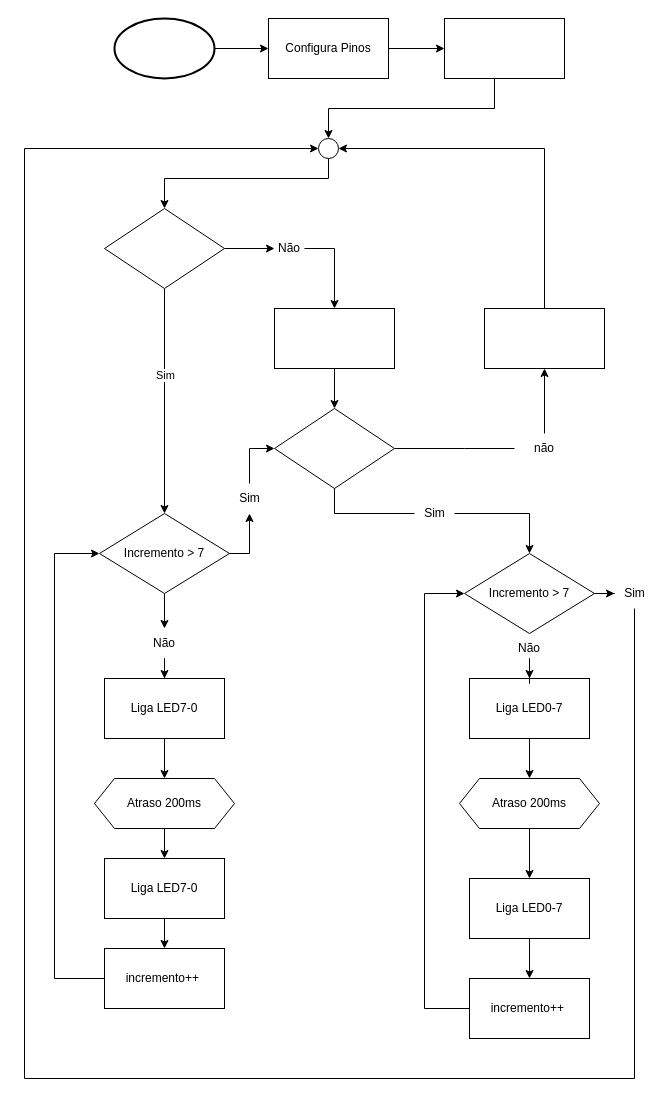
Some shapes in this 672 by 1104 pixel diagram are drawn without their labels. The shapes that lost their labels are listed below. From the top down, each one's centre as x and y in pixels, then its label:
pixel 164 48: Reset
pixel 504 48: Desliga LEDS
pixel 164 248: Seleção pressionado?
pixel 334 338: Desliga LED7-0
pixel 544 338: Desliga LED0-7
pixel 334 448: Ajuste pressionado?
